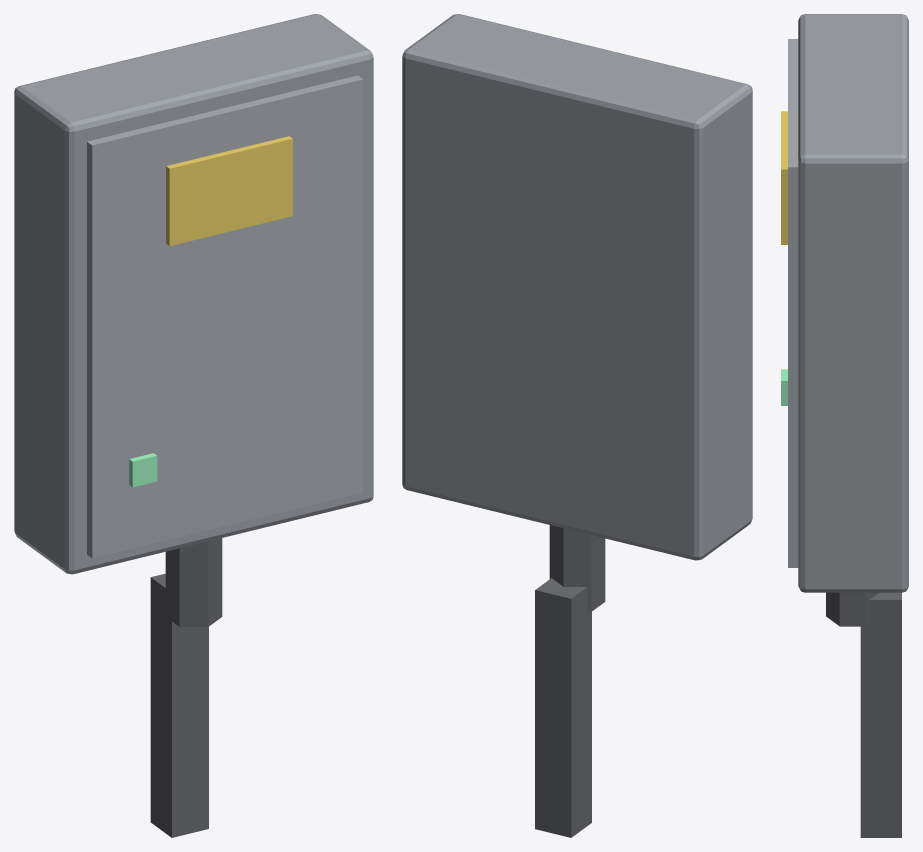
The model's file is prop_fusebox.fbx.
3 renders of one model, left to right at view 1: azimuth 30°, elevation 25°; view 2: azimuth 150°, elevation 25°; view 3: azimuth 270°, elevation 25°, orthographic. The views are drawn at different scales.
Parts seen in each view (by area): view 1: prop_fusebox; view 2: prop_fusebox; view 3: prop_fusebox.
Boxes of the visible parts, x1=… form: prop_fusebox: x1=14, y1=14, x2=373, y2=837; prop_fusebox: x1=402, y1=14, x2=752, y2=837; prop_fusebox: x1=781, y1=14, x2=908, y2=837.
Size of the model in its own units: 0.5 by 1.19 by 0.185.
